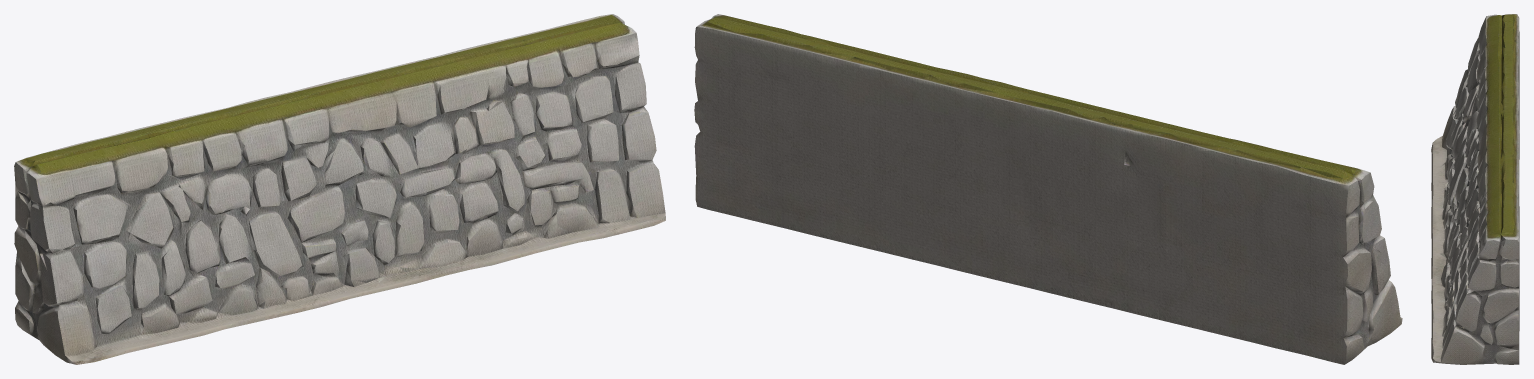
Rendered from seawall-r1.glb.
3 renders of one model, left to right at view 1: azimuth 30°, elevation 25°; view 2: azimuth 150°, elevation 25°; view 3: azimuth 270°, elevation 25°, orthographic. The views are drawn at different scales.
Visible parts, largest first — view 1: Mesh; view 2: Mesh; view 3: Mesh.
Part boxes in pixels (x1=…): Mesh: x1=14, y1=14, x2=665, y2=364; Mesh: x1=694, y1=14, x2=1402, y2=364; Mesh: x1=1431, y1=14, x2=1519, y2=364.
Bounding box in the file's own units: 1.88 × 0.5072 × 0.3107.
1 material, 1 textured.
